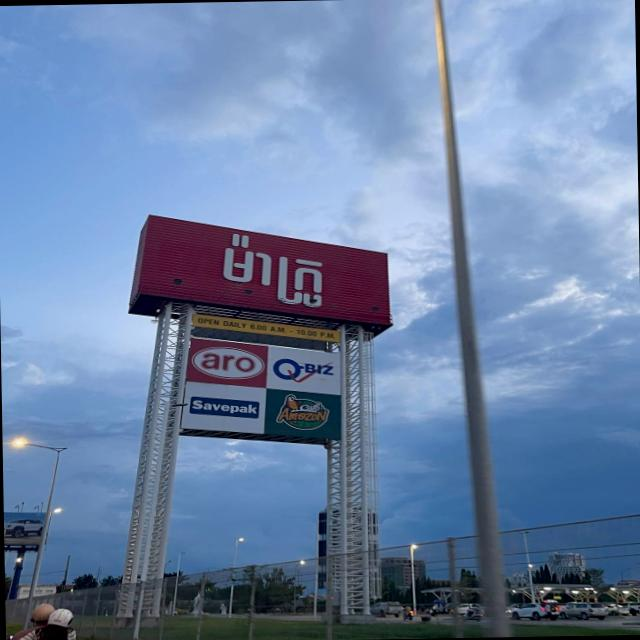Yolov11kh: (214, 228, 334, 313)
